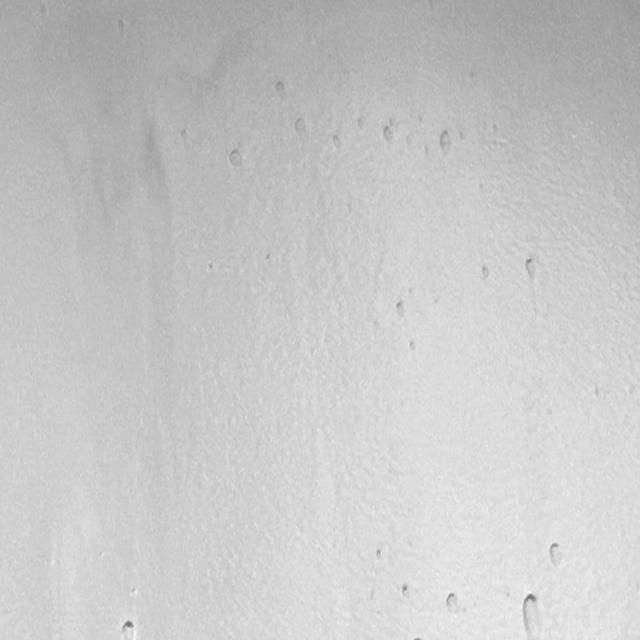pin holes: (520, 590, 552, 638), (442, 591, 465, 618), (436, 128, 456, 158), (226, 146, 247, 172), (522, 255, 542, 282), (271, 78, 293, 102), (545, 543, 565, 569), (290, 116, 310, 140), (379, 123, 397, 147), (397, 581, 416, 603), (120, 619, 139, 640), (393, 297, 409, 320), (330, 132, 346, 152), (180, 124, 195, 143), (373, 546, 387, 564), (262, 251, 276, 269), (203, 261, 218, 277), (343, 199, 356, 216), (408, 338, 420, 356), (479, 264, 492, 280), (356, 116, 369, 132), (487, 122, 500, 138), (128, 584, 140, 598), (416, 114, 427, 128)
